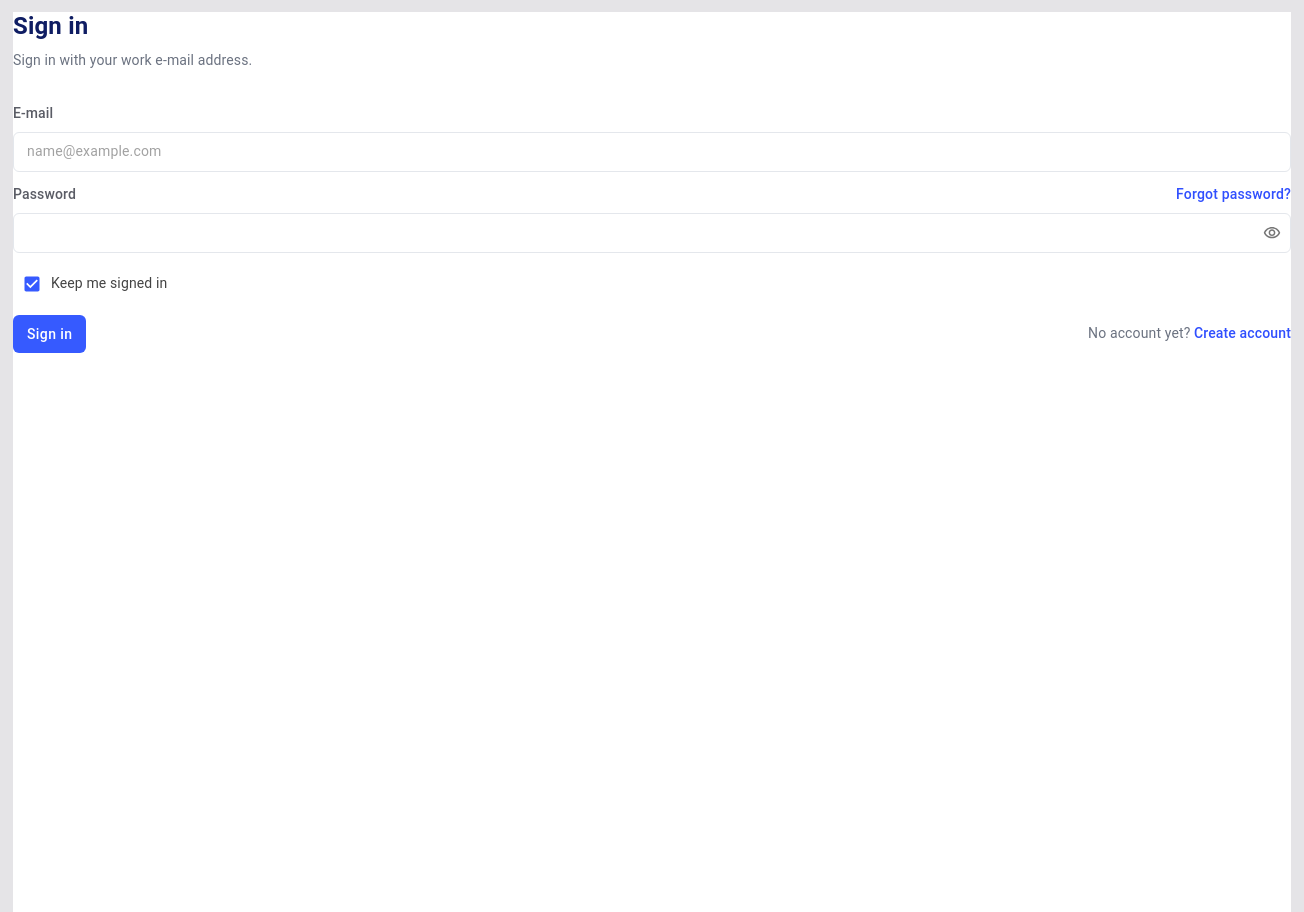
it: SignInForm validation › shows a banner when the server cannot be reached
Type "sara@example.com" into the field labelled "E-mail". click: x=652, y=152
box: x1=13 y1=132 x2=1291 y2=172
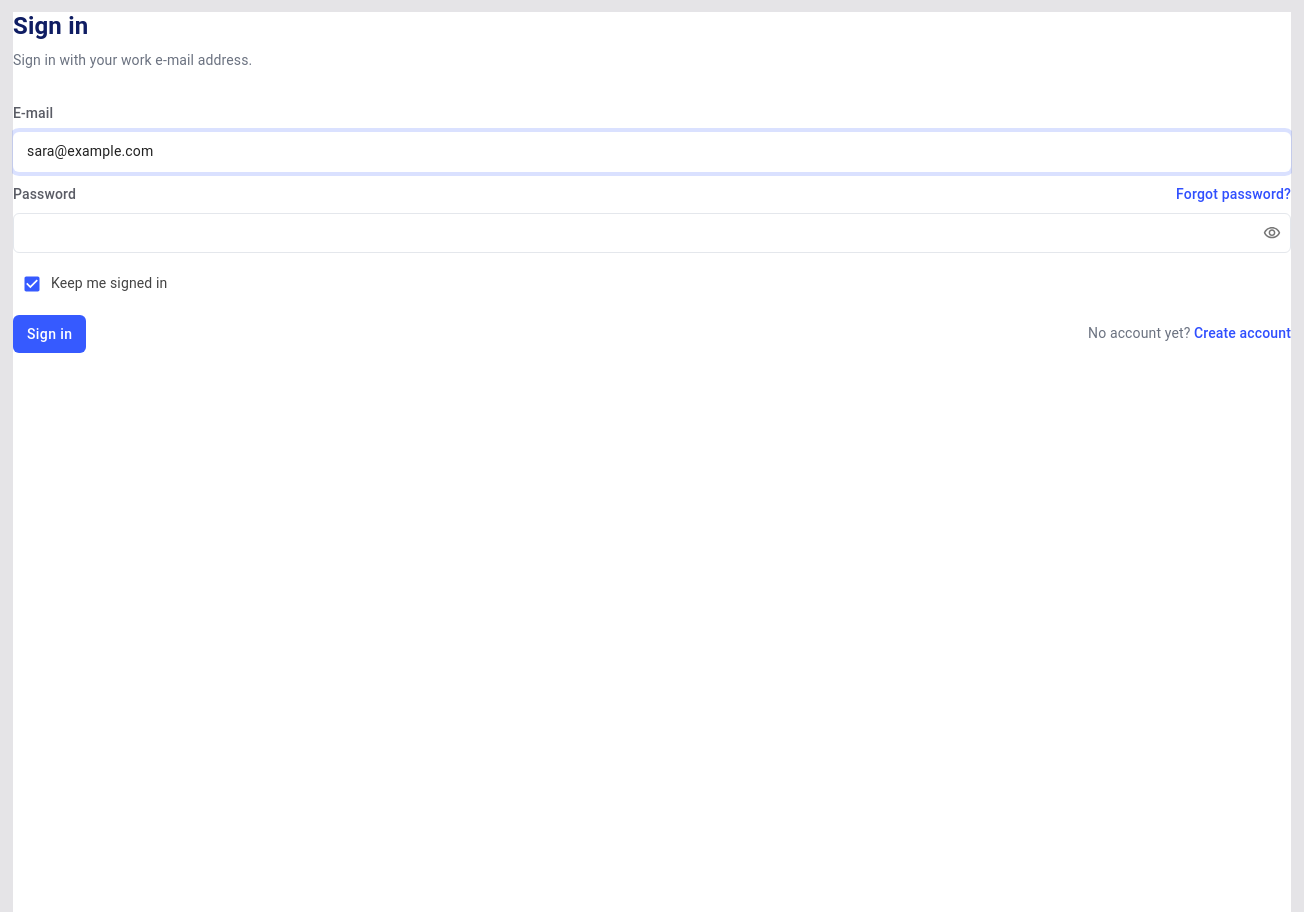
Type "secret" into the password field labelled "Password". click: x=630, y=233
box: x1=13 y1=213 x2=1247 y2=253
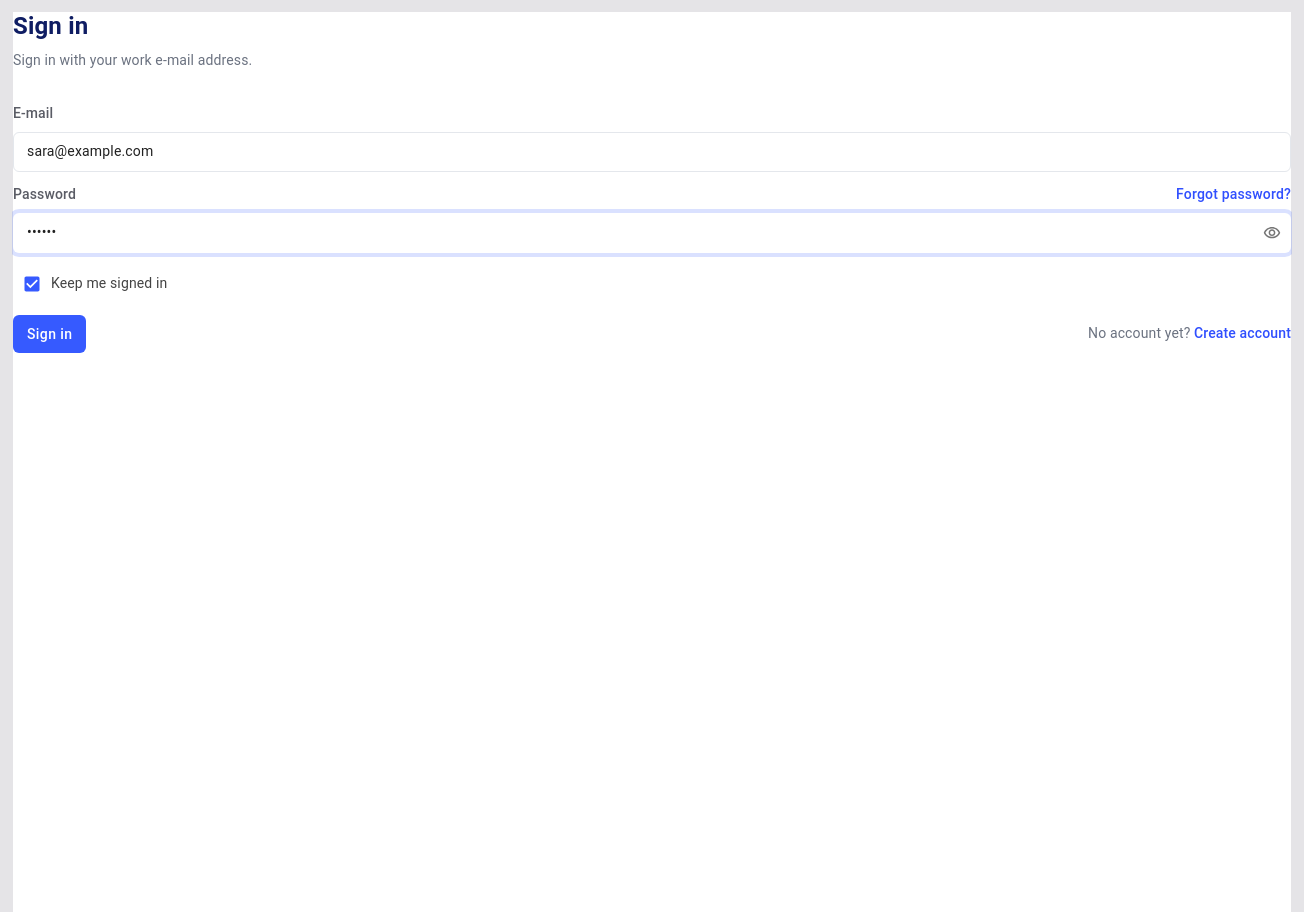
Click the button "Sign in". click: x=50, y=334
box: x1=13 y1=315 x2=86 y2=353
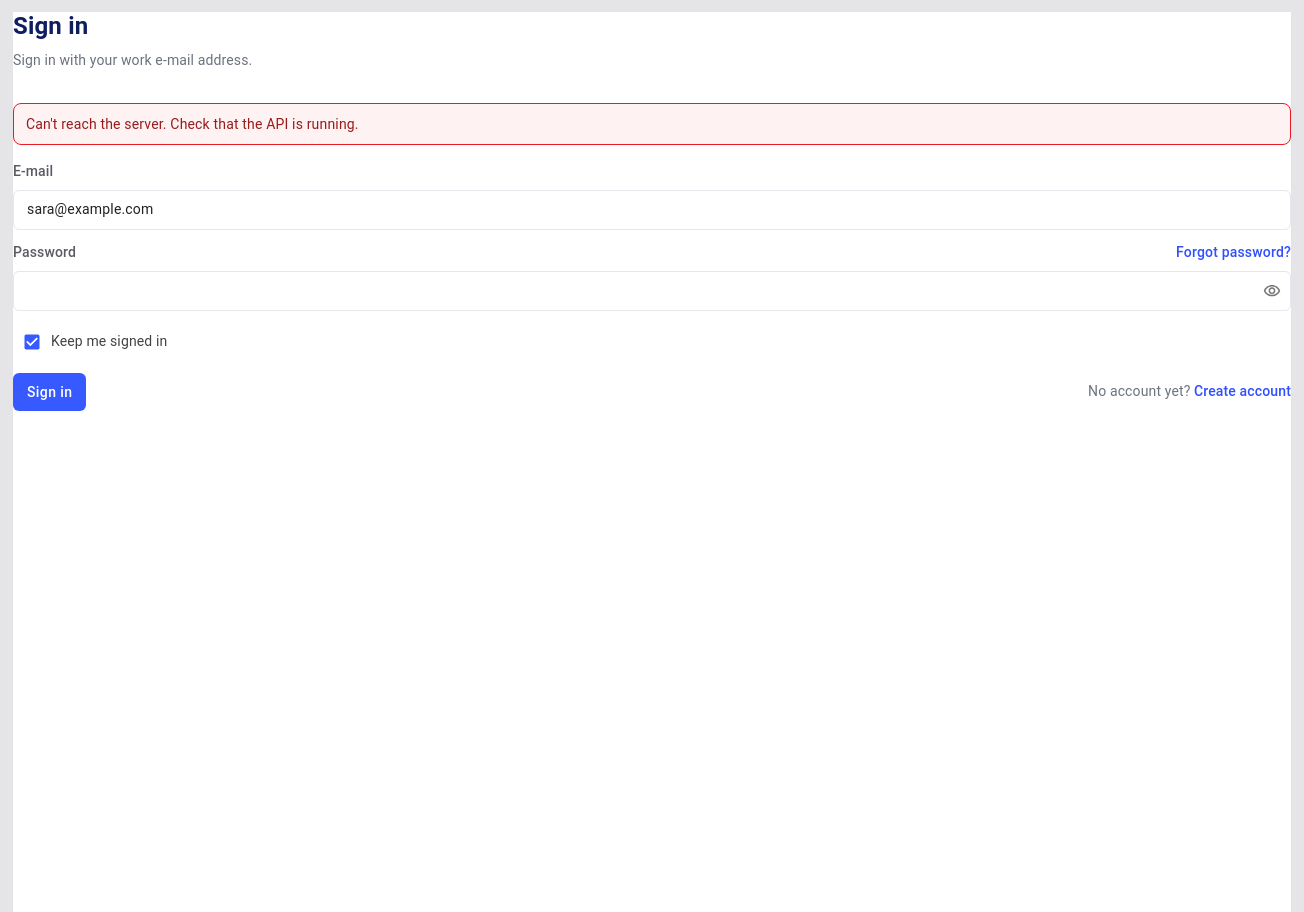
Expected: the text "Can't reach the server. Check that the API is running." is shown, x1=13 y1=103 x2=1291 y2=145
